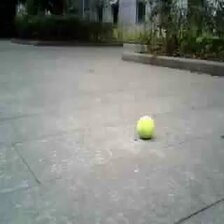tennis: (137, 115, 153, 138)
